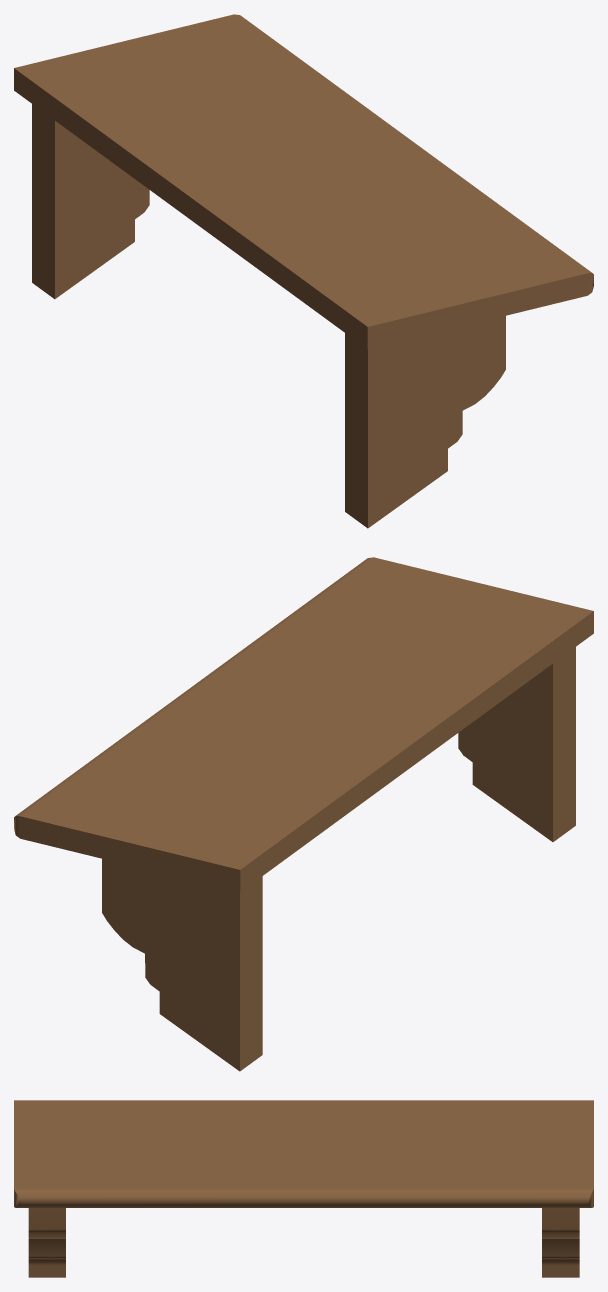
Rendered from Shelf.fbx.
3 views of the same model, one above another, from view 1: azimuth 30°, elevation 25°; view 2: azimuth 150°, elevation 25°; view 3: azimuth 270°, elevation 25° (orthographic). The views are drawn at different scales.
Visible parts, largest first — view 1: Shelf; view 2: Shelf; view 3: Shelf.
Boxes of the visible parts, <box> form: Shelf: <box>14,14,593,528</box>; Shelf: <box>14,557,593,1071</box>; Shelf: <box>14,1100,593,1277</box>.
Bounding box in the file's own units: 3.97 × 3.45 × 10.52.
